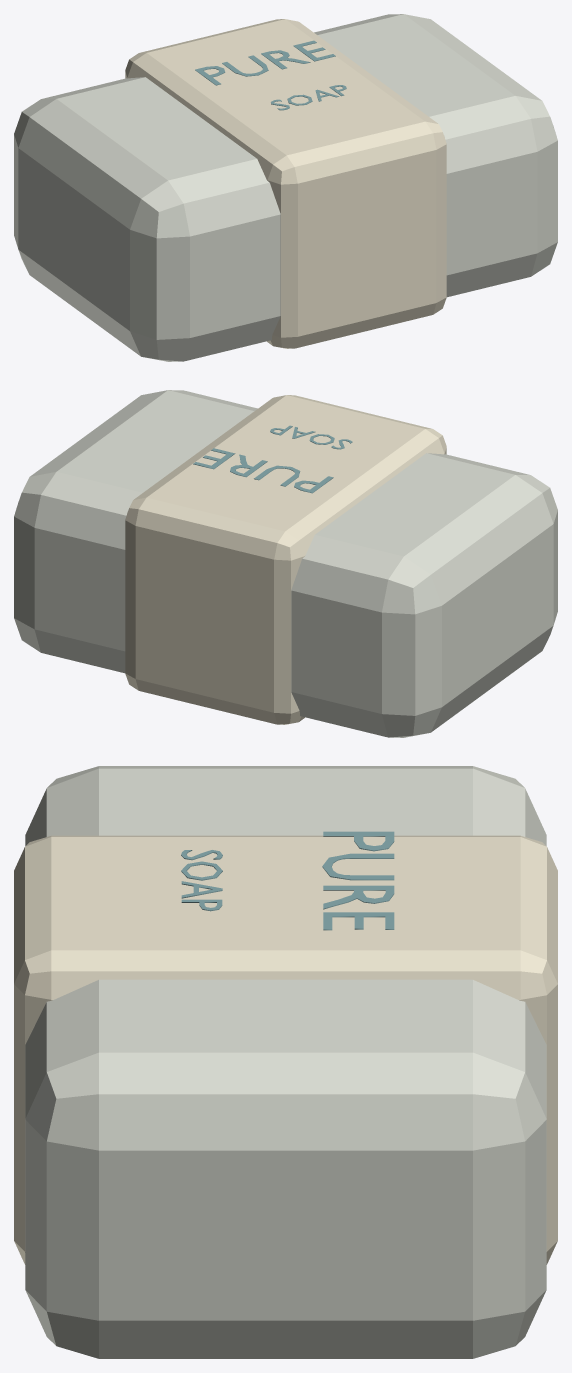
Rendered from loot_soap.glb.
3 renders of one model, top to bottom at view 1: azimuth 30°, elevation 25°; view 2: azimuth 150°, elevation 25°; view 3: azimuth 270°, elevation 25°, orthographic. The views are drawn at different scales.
Parts seen in each view (by area): view 1: loot_soap; view 2: loot_soap; view 3: loot_soap.
Part boxes in pixels (x1,y1,x2,y2): loot_soap: (14, 14, 557, 361); loot_soap: (14, 390, 557, 737); loot_soap: (14, 766, 557, 1358).
Size of the model in its own units: 0.11 by 0.0501 by 0.073.
